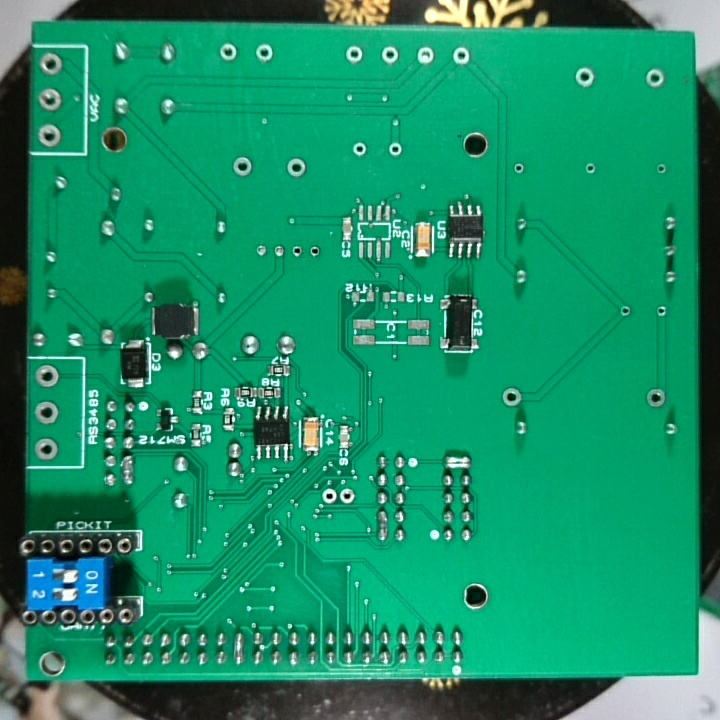F: (36, 86, 65, 115), (33, 363, 62, 391), (32, 400, 60, 427), (37, 50, 63, 78), (37, 121, 63, 149), (229, 154, 256, 180), (34, 435, 59, 462), (282, 155, 309, 180), (572, 63, 597, 89), (642, 65, 668, 90), (251, 40, 277, 65), (499, 385, 526, 409), (216, 40, 241, 65), (343, 42, 368, 66), (414, 44, 437, 69), (451, 44, 474, 68), (380, 43, 401, 69), (645, 386, 667, 409), (385, 139, 405, 160), (351, 138, 370, 160), (320, 486, 339, 506), (338, 483, 353, 506), (618, 302, 634, 323), (582, 159, 599, 178), (307, 242, 323, 261), (654, 160, 670, 178), (289, 242, 305, 260), (654, 304, 669, 322), (271, 242, 286, 260), (511, 161, 528, 176), (254, 242, 268, 260)
P: (374, 508, 391, 543), (119, 452, 136, 486), (231, 629, 246, 666), (442, 453, 472, 471)
